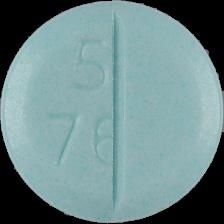0054-4186: (0, 0, 224, 224)
